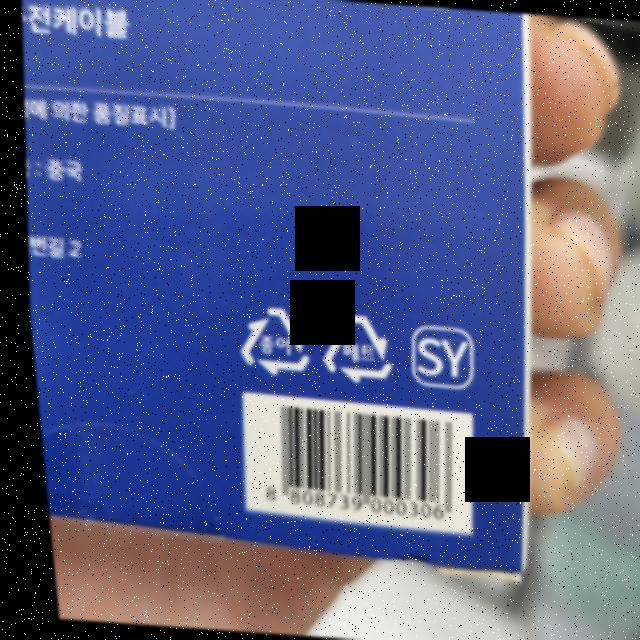PET: (308, 308, 392, 388)
Paper: (221, 298, 311, 383)
